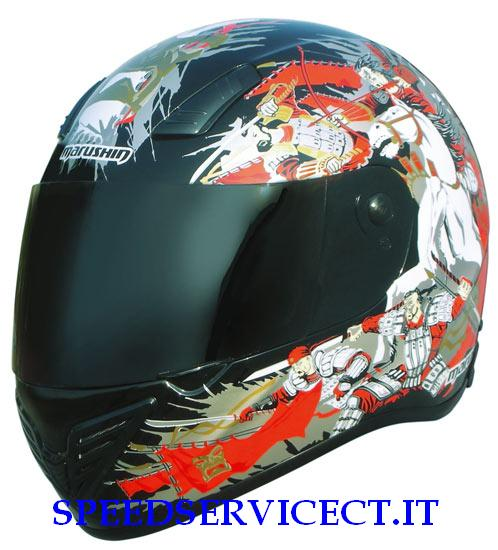helmet: (27, 29, 472, 480)
